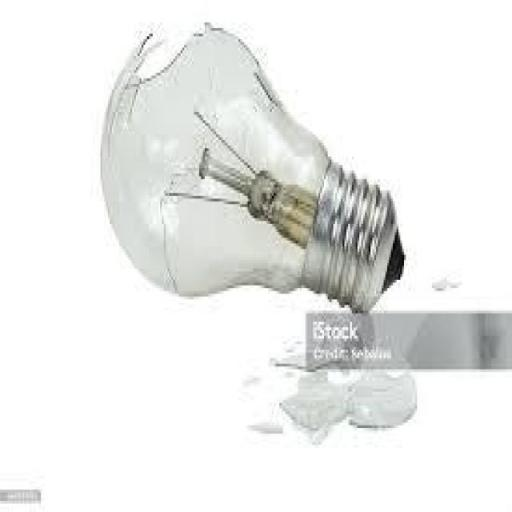glass: (104, 24, 336, 298), (280, 372, 351, 431)
